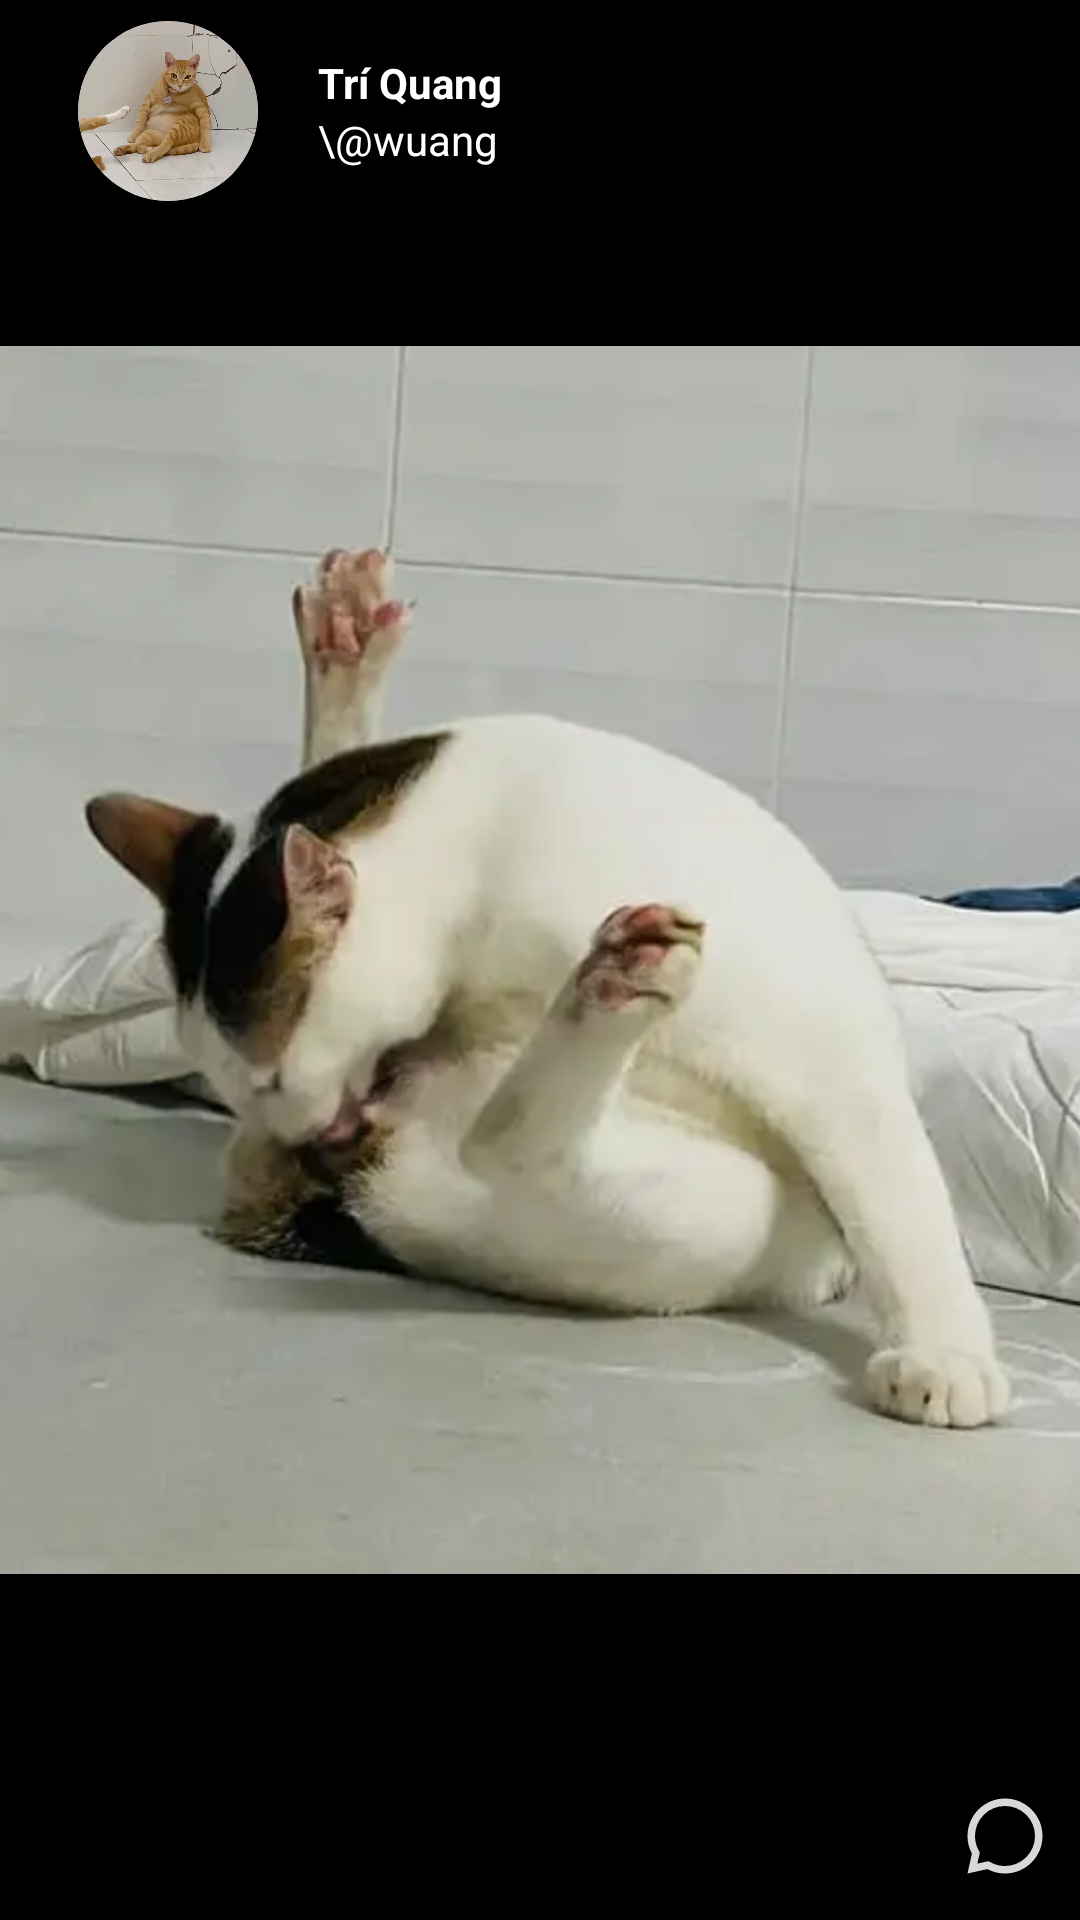

Named icons in this screenshot (1080px x 1920px) and their centers, (x=x, y=y):
chat line: (x=1005, y=1836)
meo: (x=168, y=111)
